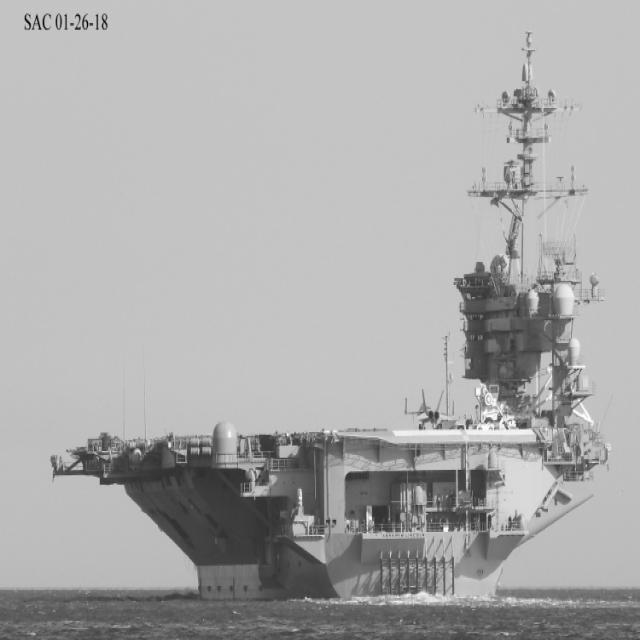Portanaves: (47, 23, 617, 611)
